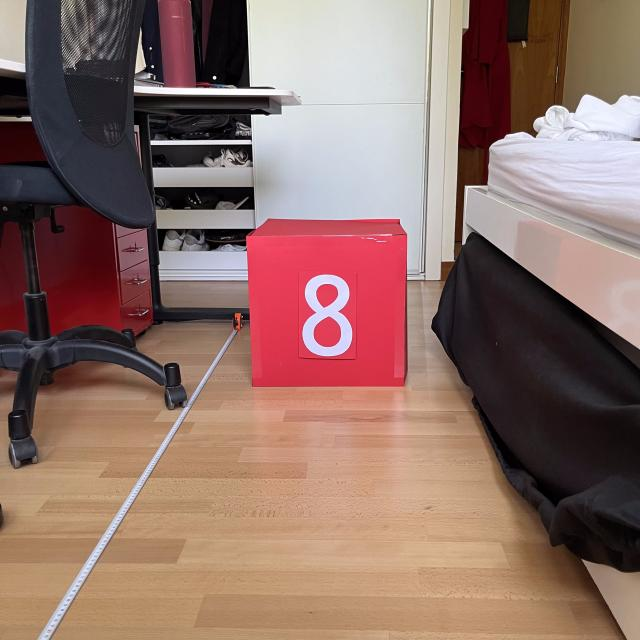box: (242, 214, 411, 389)
